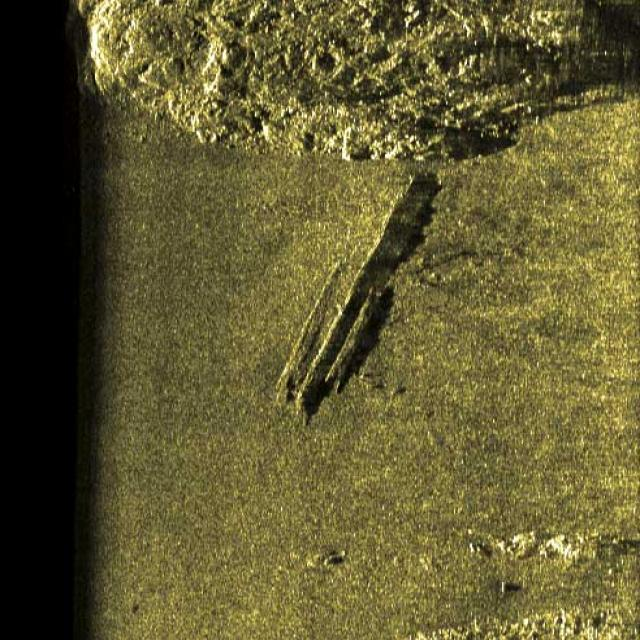other: (255, 160, 460, 420)
